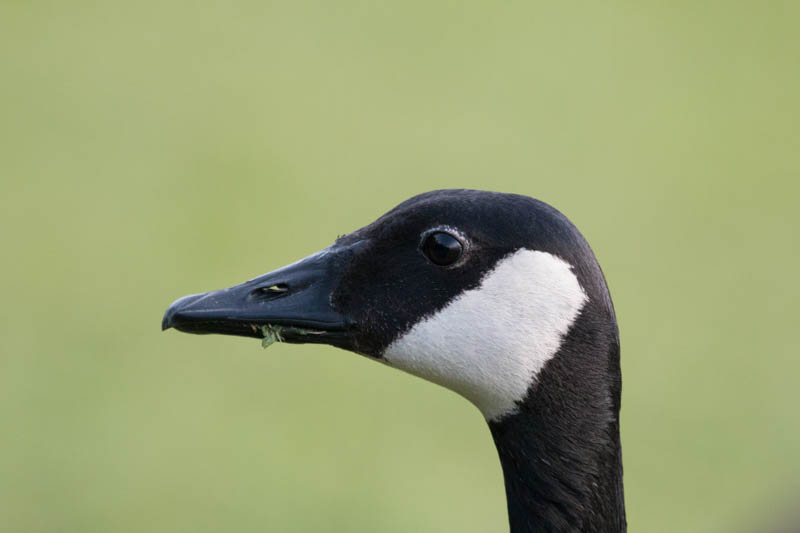goose-head: (160, 187, 622, 430)
